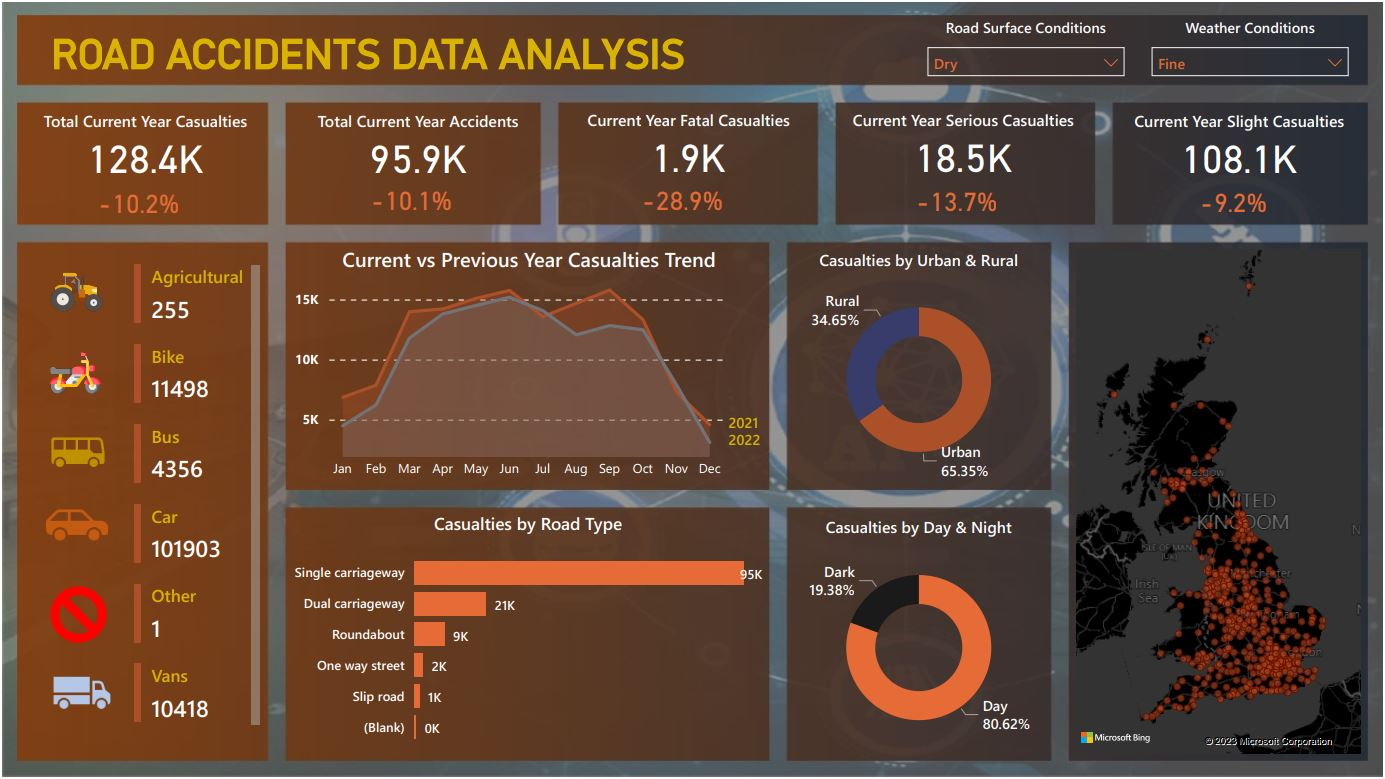

What the dashboard file says about the page in this screenshot:
{"tool":"powerbi","page":{"name":"Dashboard","canvas":[1280,720],"ordinal":0},"visuals":[{"type":"card","title":"Current Year Serious Casualties","fields":{"Values":["Data.Current_Year_Casualties"]},"box":[781.2,97.7,220.8,65.8],"z":0,"group":"g4"},{"type":"card","title":"Current Year Fatal Casualties","fields":{"Values":["Data.Current_Year_Casualties"]},"box":[526.5,98.1,220.8,65.8],"z":0,"group":"g3"},{"type":"group","id":"g1","title":"Group 1","box":[22.1,98.9,220.8,102.2],"z":0},{"type":"card","title":"Total Current Year Casualties","fields":{"Values":["Data.Current_Year_Casualties"]},"box":[22.1,98.9,220.8,65.8],"z":0,"group":"g1"},{"type":"card","title":"Current Year Slight Casualties","fields":{"Values":["Data.Current_Year_Casualties"]},"box":[1037.2,99,220.8,65.8],"z":0,"group":"g5"},{"type":"card","title":"Total Current Year Accidents","fields":{"Values":["Data.Current_Year_Accidents"]},"box":[275.4,99.2,220.8,65.8],"z":0,"group":"g2"},{"type":"group","id":"g2","title":"Group 2","box":[275.4,99.2,220.8,103.3],"z":1000},{"type":"card","title":"Year on Year Casualties","fields":{"Values":["Data.YoY_Accidents"]},"box":[332.5,162.9,93.4,39.6],"z":1000,"group":"g2"},{"type":"card","title":"Year on Year Casualties","fields":{"Values":["Data.YoY_Casualties"]},"box":[1095.4,164.9,93.4,39.6],"z":1000,"group":"g5"},{"type":"card","title":"Year on Year Casualties","fields":{"Values":["Data.YoY_Casualties"]},"box":[584.7,165.1,92.3,35.2],"z":1000,"group":"g3"},{"type":"card","title":"Year on Year Casualties","fields":{"Values":["Data.YoY_Casualties"]},"box":[838.3,165.8,93.4,35.2],"z":1000,"group":"g4"},{"type":"card","title":"Year on Year Casualties","fields":{"Values":["Data.YoY_Casualties"]},"box":[79.2,170.3,93.4,30.8],"z":1000,"group":"g1"},{"type":"group","id":"g3","title":"Group 1","box":[526.5,98.1,220.8,102.2],"z":2000},{"type":"group","id":"g4","title":"Group 1","box":[781.2,97.7,220.8,103.3],"z":3000},{"type":"textbox","box":[0,20.4,678.4,55.4],"z":4000},{"type":"group","id":"g5","title":"Group 1","box":[1037.2,99,220.8,105.5],"z":5000},{"type":"multiRowCard","fields":{"Values":["Data.Vehicle_Type (groups)","Data.CY_Casualties"]},"box":[116.6,238.1,126.3,448],"z":6000},{"type":"image","box":[22,238.4,91.2,59.3],"z":7000},{"type":"image","box":[26.4,315.3,81.3,57.1],"z":8000},{"type":"image","box":[30.8,384.5,75.8,63.7],"z":9000},{"type":"image","box":[28.6,448.3,80.2,71.4],"z":10000},{"type":"image","box":[36.9,606.5,71.9,66.1],"z":11000},{"type":"image","box":[33,527.7,74.8,78.7],"z":12000},{"type":"areaChart","title":"Current vs Previous Year Casualties Trend","fields":{"Category":["Calendar.Month"],"Y":["Sum(Data.Number_of_Casualties)"],"Series":["Calendar.Date.Variation.Date Hierarchy.Year"]},"box":[265.9,225.2,445,225.2],"z":13000},{"type":"donutChart","title":"Casualties by Urban & Rural","fields":{"Category":["Data.Urban_or_Rural_Area"],"Y":["Data.CY_Casualties"]},"box":[729,223,242,228],"z":14000},{"type":"donutChart","title":"Casualties by Day & Night","fields":{"Y":["Data.CY_Casualties"],"Category":["Data.Light_Conditions (groups)"]},"box":[729.3,471.5,241.8,228.7],"z":15000},{"type":"barChart","title":"Casualties by Road Type","fields":{"Category":["Data.Road_Type"],"Y":["Data.CY_Casualties"]},"box":[265.4,471.1,444.6,229.2],"z":16000},{"type":"map","fields":{"Category":["Data.Local_Authority_(District)"],"X":["Avg(Data.Longitude)"],"Y":["Avg(Data.Latitude)"]},"box":[991.1,224.3,274.2,476.9],"z":17000},{"type":"slicer","title":"Weather  Conditions","fields":{"Values":["Data.Weather_Conditions (groups)"]},"box":[1056,13.6,203.1,59.3],"z":17001},{"type":"slicer","title":"Road Surface Conditions","fields":{"Values":["Data.Road_Surface_Conditions (groups)"]},"box":[847.5,13.6,203.1,59.3],"z":17002}]}

Visuals, with their boxes in screenshot pixels (x1, y1, x2, y2), scaled from the page's 1280x720 canvas onto the 1385x779 screenshot:
"Current Year Serious Casualties" card: [left=845, top=106, right=1084, bottom=177]
"Current Year Fatal Casualties" card: [left=570, top=106, right=809, bottom=177]
"Group 1" group: [left=24, top=107, right=263, bottom=218]
"Total Current Year Casualties" card: [left=24, top=107, right=263, bottom=178]
"Current Year Slight Casualties" card: [left=1122, top=107, right=1361, bottom=178]
"Total Current Year Accidents" card: [left=298, top=107, right=537, bottom=179]
"Group 2" group: [left=298, top=107, right=537, bottom=219]
"Year on Year Casualties" card: [left=360, top=176, right=461, bottom=219]
"Year on Year Casualties" card: [left=1185, top=178, right=1286, bottom=221]
"Year on Year Casualties" card: [left=633, top=179, right=733, bottom=217]
"Year on Year Casualties" card: [left=907, top=179, right=1008, bottom=217]
"Year on Year Casualties" card: [left=86, top=184, right=187, bottom=218]
"Group 1" group: [left=570, top=106, right=809, bottom=217]
"Group 1" group: [left=845, top=106, right=1084, bottom=217]
textbox: [left=0, top=22, right=734, bottom=82]
"Group 1" group: [left=1122, top=107, right=1361, bottom=221]
multiRowCard - Data.Vehicle_Type (groups) x Data.CY_Casualties: [left=126, top=258, right=263, bottom=742]
image: [left=24, top=258, right=122, bottom=322]
image: [left=29, top=341, right=117, bottom=403]
image: [left=33, top=416, right=115, bottom=485]
image: [left=31, top=485, right=118, bottom=562]
image: [left=40, top=656, right=118, bottom=728]
image: [left=36, top=571, right=117, bottom=656]
"Current vs Previous Year Casualties Trend" areaChart: [left=288, top=244, right=769, bottom=487]
"Casualties by Urban & Rural" donutChart: [left=789, top=241, right=1051, bottom=488]
"Casualties by Day & Night" donutChart: [left=789, top=510, right=1051, bottom=758]
"Casualties by Road Type" barChart: [left=287, top=510, right=768, bottom=758]
map - Data.Local_Authority_(District) x Avg(Data.Longitude): [left=1072, top=243, right=1369, bottom=759]
"Weather  Conditions" slicer: [left=1143, top=15, right=1362, bottom=79]
"Road Surface Conditions" slicer: [left=917, top=15, right=1137, bottom=79]
